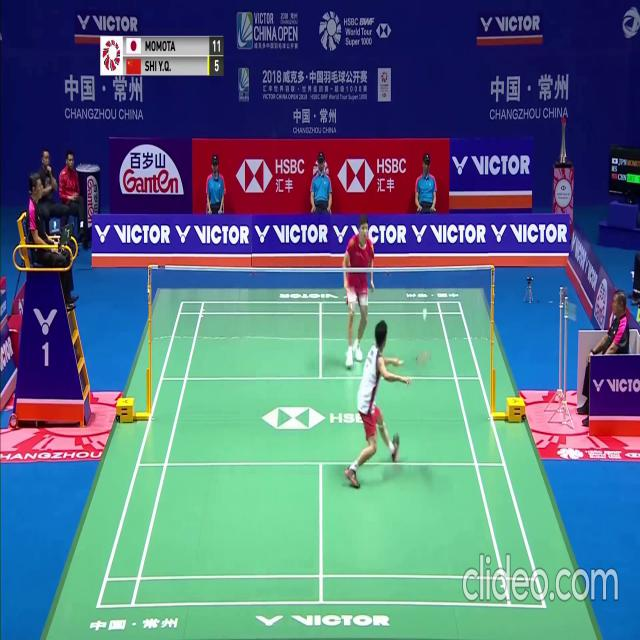Shuttlecock: (422, 309, 426, 317)
